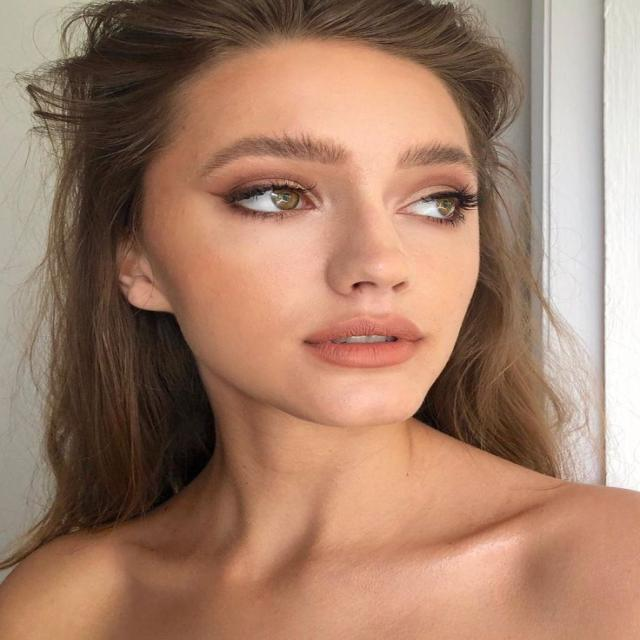earlobe: (108, 219, 174, 313)
